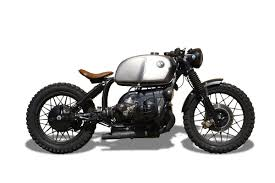motorcycle: (24, 48, 255, 153)
